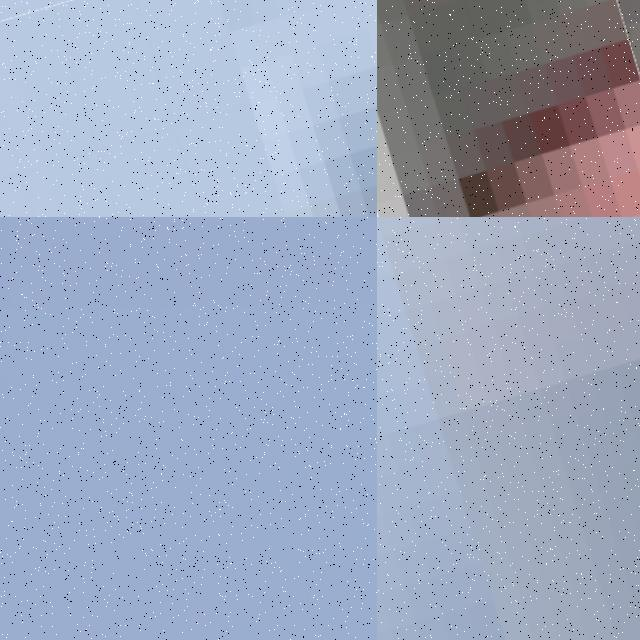drone: (377, 217, 640, 640), (0, 0, 377, 217), (377, 0, 640, 217)
